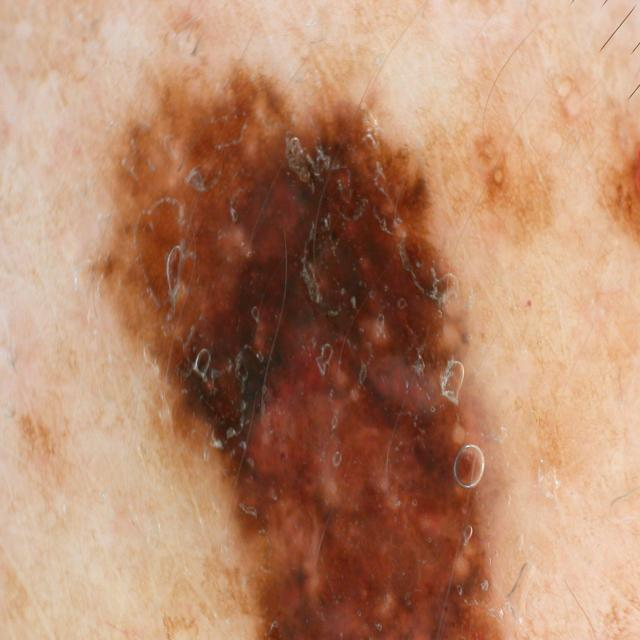Melanoma: (98, 40, 568, 640)
